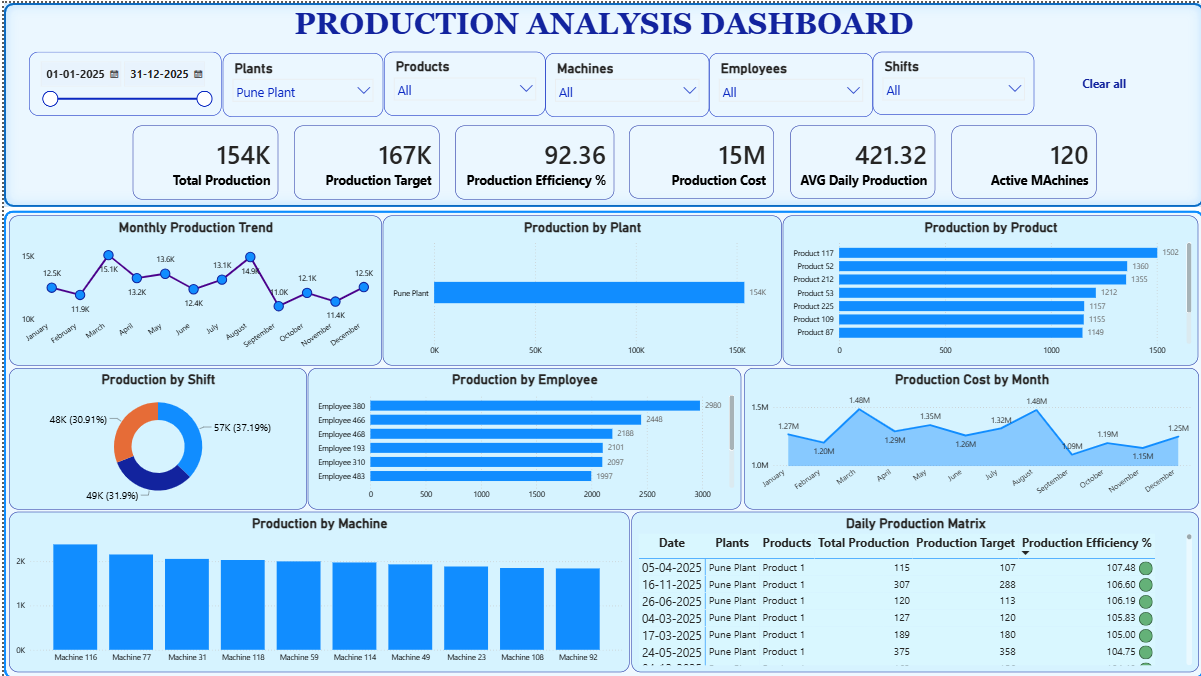

What the dashboard file says about the page in this screenshot:
{"tool":"powerbi","page":{"name":"Production Analysis","canvas":[1920,1080],"ordinal":1},"visuals":[{"type":"shape","box":[0,0,1920,326.1],"z":0},{"type":"textbox","box":[0,0,1920,78.9],"z":1000},{"type":"cardVisual","fields":{"Data":["_Measures.Total Production"]},"box":[194.6,184.1,257.8,142],"z":2000},{"type":"slicer","fields":{"Values":["Date.Date"]},"box":[40,78,307.7,102.6],"z":3000},{"type":"slicer","fields":{"Values":["Plants.Plant_Name"]},"box":[349.8,81.5,305.8,101.9],"z":4000},{"type":"slicer","fields":{"Values":["Products.Product_Name"]},"box":[654.9,81.5,305.8,101.9],"z":5000},{"type":"slicer","fields":{"Values":["Machines.Machine_Name"]},"box":[960,81.5,305.8,101.9],"z":6000},{"type":"slicer","fields":{"Values":["Employees.Employee_Name"]},"box":[1267.7,78.9,305.8,101.9],"z":7000},{"type":"slicer","fields":{"Values":["Employees.Shift"]},"box":[1572.8,76.3,305.8,101.9],"z":8000},{"type":"cardVisual","fields":{"Data":["_Measures.Production Target"]},"box":[452.4,184.1,257.8,142],"z":9000},{"type":"cardVisual","fields":{"Data":["_Measures.Production Efficiency %"]},"box":[710.1,184.1,278.8,142],"z":10000},{"type":"cardVisual","fields":{"Data":["_Measures.Production Cost"]},"box":[988.9,184.1,256.4,141.4],"z":11000},{"type":"cardVisual","fields":{"Data":["_Measures.AVG Daily Production"]},"box":[1246.7,184.1,256.4,141.4],"z":12000},{"type":"cardVisual","fields":{"Data":["_Measures.Active MAchines"]},"box":[1504.4,184.1,256.4,141.4],"z":13000},{"type":"shape","box":[0,331.4,1920,749.6],"z":14000},{"type":"lineChart","title":"Monthly Production Trend","fields":{"Category":["Date.Month"],"Y":["_Measures.Total Production"]},"box":[8.3,340,596.7,240],"z":15000},{"type":"clusteredBarChart","title":"Production by Plant","fields":{"Category":["Plants.Plant_Name"],"Y":["_Measures.Total Production"]},"box":[606.7,340,638.3,240],"z":16000},{"type":"clusteredBarChart","title":"Production by Product","fields":{"Category":["Products.Product_Name"],"Y":["_Measures.Total Production"]},"box":[1246.7,340,665,240],"z":17000},{"type":"donutChart","title":"Production by Shift","fields":{"Category":["Employees.Shift"],"Y":["_Measures.Total Production"]},"box":[8.3,583.3,476.7,226.7],"z":18000},{"type":"clusteredBarChart","title":"Production by Employee","fields":{"Category":["Employees.Employee_Name"],"Y":["_Measures.Total Production"]},"box":[486.7,583.3,693.3,226.7],"z":19000},{"type":"clusteredColumnChart","title":"Production by Machine","fields":{"Category":["Machines.Machine_Name"],"Y":["_Measures.Total Production"]},"box":[8.3,813.3,993,256.7],"z":20000},{"type":"pivotTable","title":"  Daily Production Matrix","fields":{"Rows":["Date.Date"],"Values":["Min(Plants.Plant_Name)","Min(Products.Product_Name)","_Measures.Total Production","_Measures.Production Target","_Measures.Production Efficiency %"]},"box":[1003.3,813.3,908.3,256.7],"z":21000},{"type":"areaChart","fields":{"Category":["Date.Month"],"Y":["_Measures.Production Cost"]},"box":[1183.3,583.3,728.3,226.7],"z":22000}]}

Visuals, with their boxes in screenshot pixels (x1, y1, x2, y2), scaled from the page's 1920x1080 canvas onto the 1201x676 screenshot:
shape: bbox(0, 0, 1200, 204)
textbox: bbox(0, 0, 1200, 49)
cardVisual - _Measures.Total Production: bbox(122, 115, 283, 204)
slicer - Date.Date: bbox(25, 49, 217, 113)
slicer - Plants.Plant_Name: bbox(219, 51, 410, 115)
slicer - Products.Product_Name: bbox(410, 51, 601, 115)
slicer - Machines.Machine_Name: bbox(600, 51, 792, 115)
slicer - Employees.Employee_Name: bbox(793, 49, 984, 113)
slicer - Employees.Shift: bbox(984, 48, 1175, 112)
cardVisual - _Measures.Production Target: bbox(283, 115, 444, 204)
cardVisual - _Measures.Production Efficiency %: bbox(444, 115, 619, 204)
cardVisual - _Measures.Production Cost: bbox(619, 115, 779, 204)
cardVisual - _Measures.AVG Daily Production: bbox(780, 115, 940, 204)
cardVisual - _Measures.Active MAchines: bbox(941, 115, 1101, 204)
shape: bbox(0, 207, 1200, 675)
"Monthly Production Trend" lineChart: bbox(5, 213, 378, 363)
"Production by Plant" clusteredBarChart: bbox(380, 213, 779, 363)
"Production by Product" clusteredBarChart: bbox(780, 213, 1196, 363)
"Production by Shift" donutChart: bbox(5, 365, 303, 507)
"Production by Employee" clusteredBarChart: bbox(304, 365, 738, 507)
"Production by Machine" clusteredColumnChart: bbox(5, 509, 626, 670)
"  Daily Production Matrix" pivotTable: bbox(628, 509, 1196, 670)
areaChart - Date.Month x _Measures.Production Cost: bbox(740, 365, 1196, 507)
